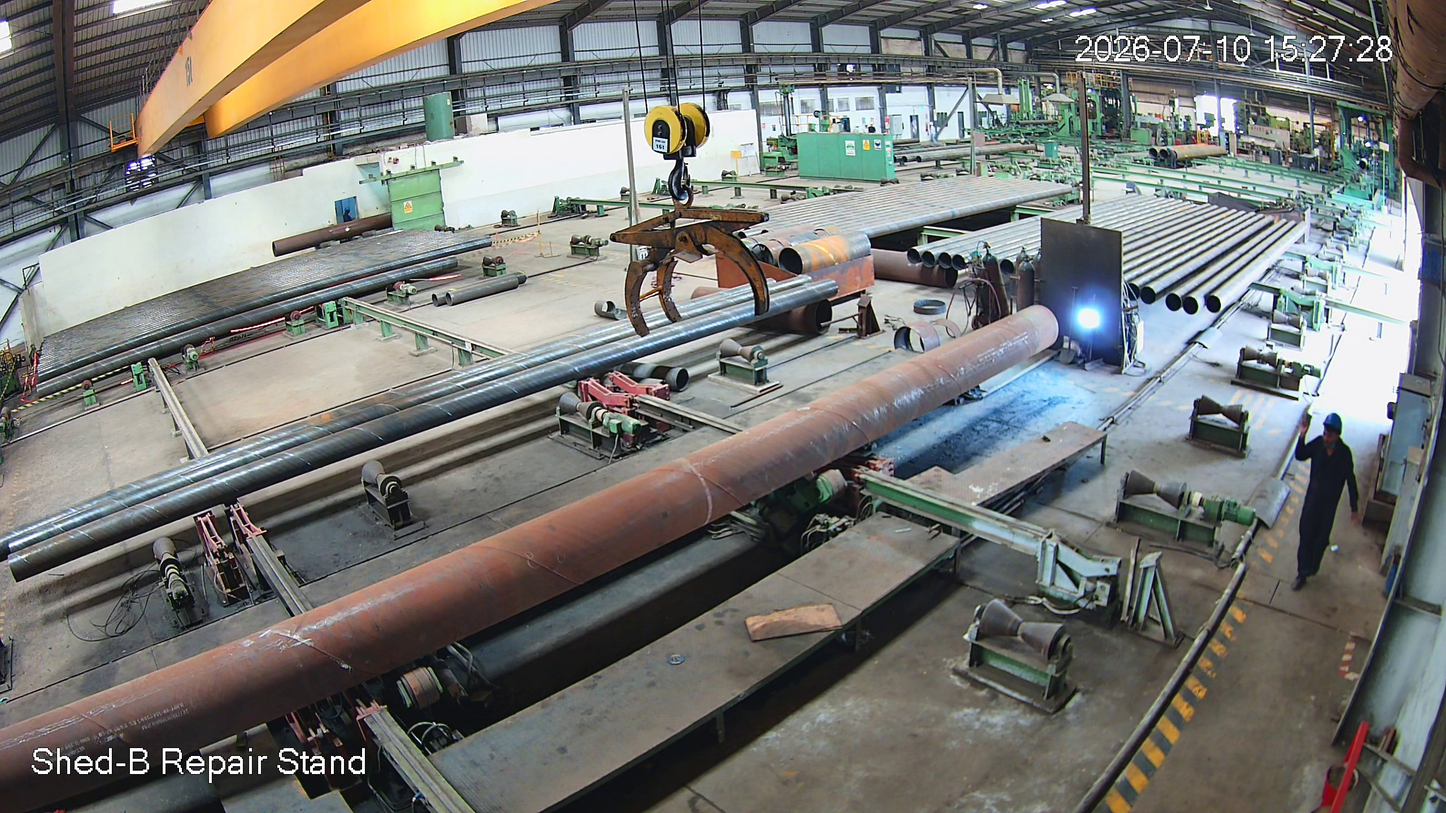Helmet: (1315, 406, 1353, 455)
Person: (1282, 412, 1365, 604)
